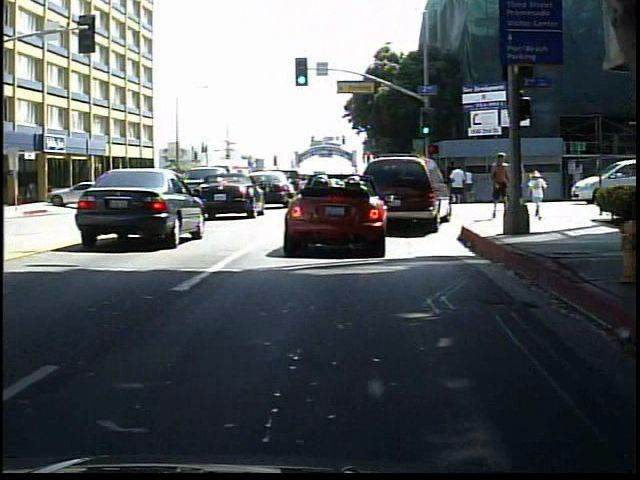person: (486, 150, 509, 222), (526, 172, 548, 222), (120, 173, 138, 204)
